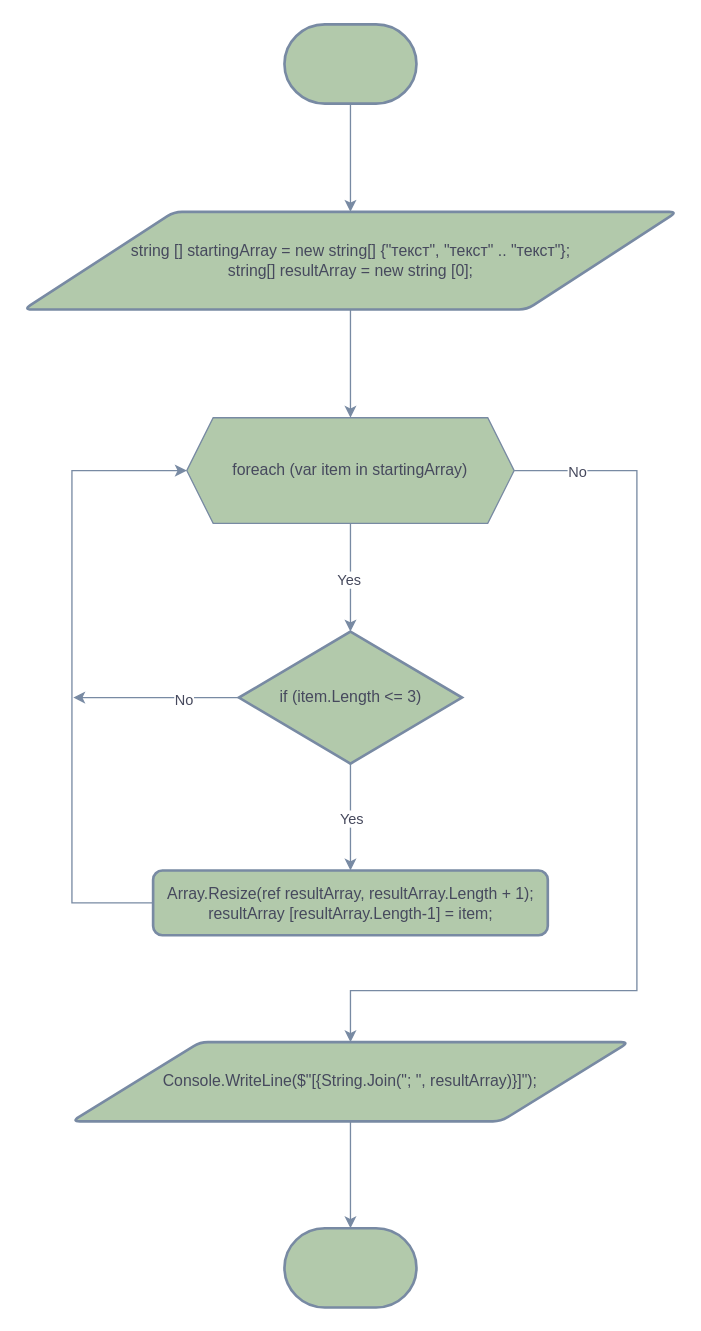
Image size: 701x1331. Some labels were removed from this diagram. Each missing label, with the centre of its shape:
"End Main" goes at [349,1267].
"Start void Main" goes at [349,63].
